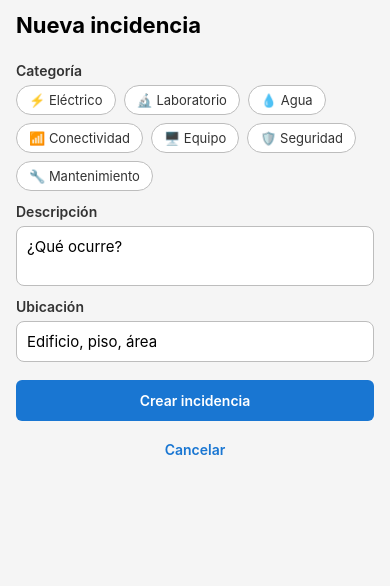
Test case: CrearIncidencia form › after an uncertain timeout it locks the content and retries with the same key
Click the element with test id "categoria-water" at [287, 100], box [248,85,326,115]
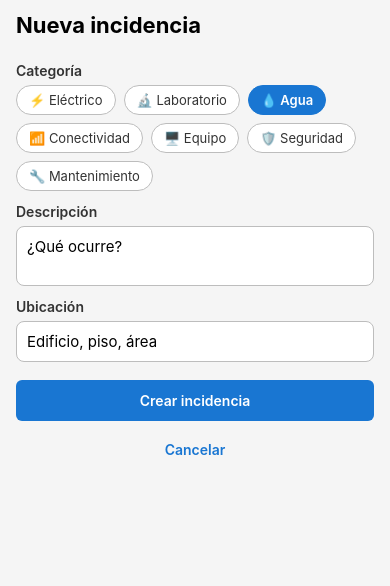
Type "  Fuga simulada  " into the text box with test id "input-descripcion" at [195, 256], box [16,226,374,286]
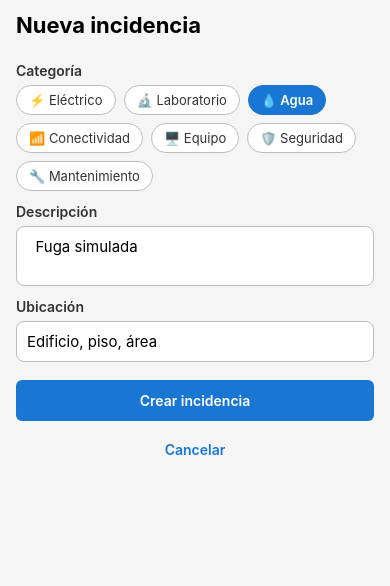
Type "Zona manual ficticia" into the field with test id "input-ubicacion" at [195, 342], box [16,321,374,362]
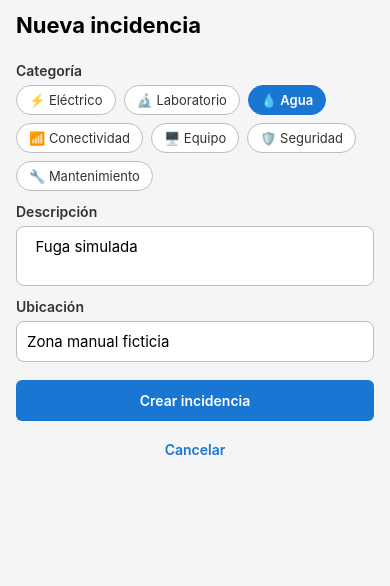
Click the element with test id "crear-enviar" at [195, 400], box [16,380,374,421]
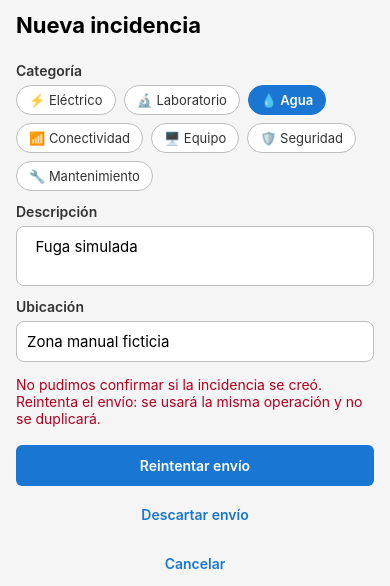
Expected: the text with test id "crear-incierto" is shown, [16,376,374,427]
Click the element with test id "crear-enviar" at [195, 466], box [16,445,374,486]
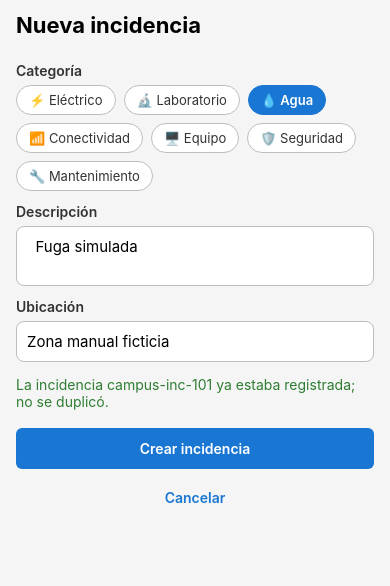
Expected: the text "La incidencia campus-inc-101 ya estaba registrada; no se duplicó." is shown, [16,376,374,410]
